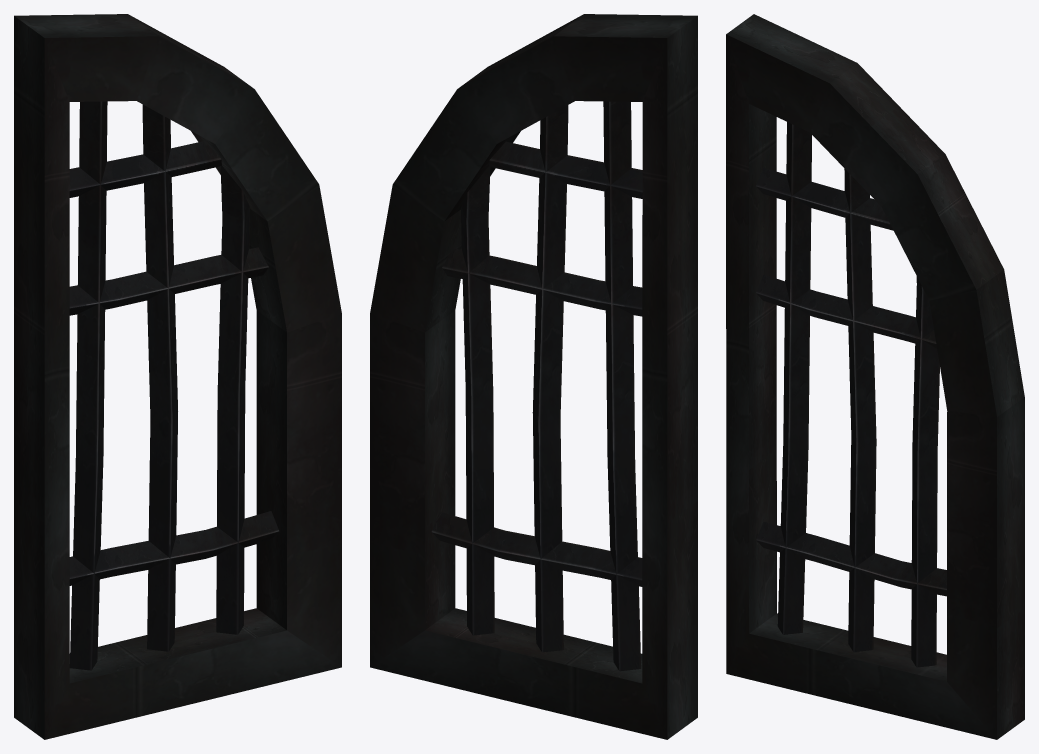
Rendered from sewer_door001_r.FBX.
3 views of the same model, side by side, from view 1: azimuth 30°, elevation 25°; view 2: azimuth 150°, elevation 25°; view 3: azimuth 330°, elevation 25° (orthographic). The views are drawn at different scales.
Parts seen in each view (by area): view 1: sewer_door001_r; view 2: sewer_door001_r; view 3: sewer_door001_r.
Part boxes in pixels (left/top/right/bottom): sewer_door001_r: left=14, top=14, right=341, bottom=739; sewer_door001_r: left=370, top=14, right=697, bottom=739; sewer_door001_r: left=726, top=14, right=1024, bottom=739.
Bounding box in the file's own units: 303 × 684 × 53.88.
